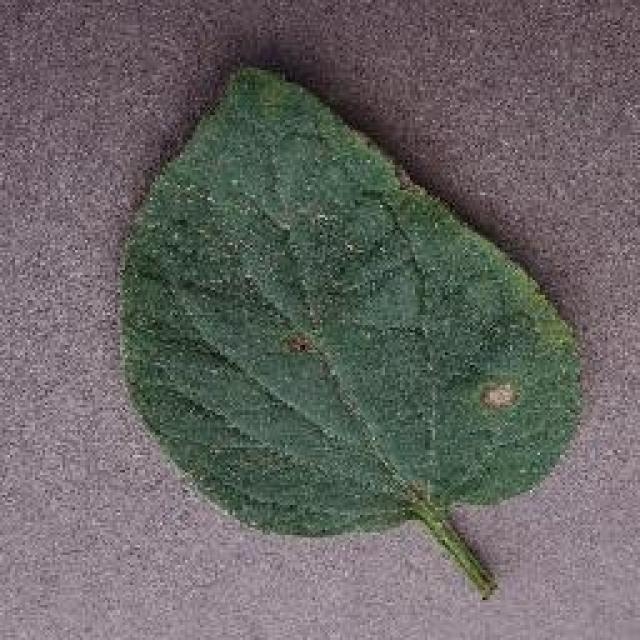Tom_Target_Spot: (245, 263, 354, 382), (451, 360, 544, 440)
